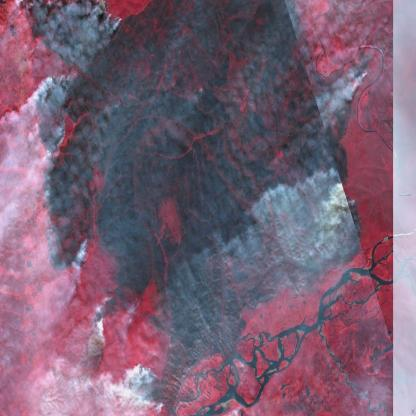fire: (53, 73, 78, 146), (66, 231, 96, 268), (92, 292, 112, 345), (145, 369, 167, 415), (101, 12, 128, 26), (358, 60, 372, 85)
